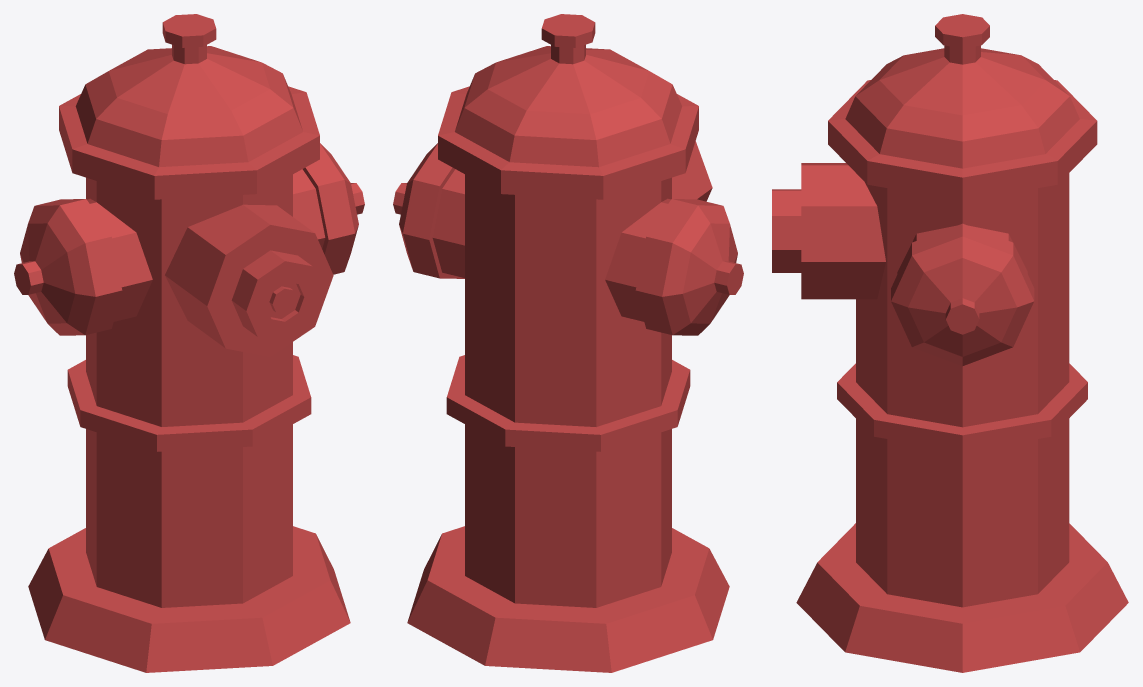
Rendered from Hydrant.fbx.
3 views of the same model, side by side, from view 1: azimuth 30°, elevation 25°; view 2: azimuth 150°, elevation 25°; view 3: azimuth 270°, elevation 25° (orthographic).
Parts seen in each view (by area): view 1: Hydrant; view 2: Hydrant; view 3: Hydrant.
Boxes of the visible parts, x1=… form: Hydrant: x1=14, y1=14, x2=364, y2=672; Hydrant: x1=393, y1=14, x2=743, y2=672; Hydrant: x1=772, y1=14, x2=1128, y2=672.
Size of the model in its own units: 0.8863 by 1.47 by 0.8232.
